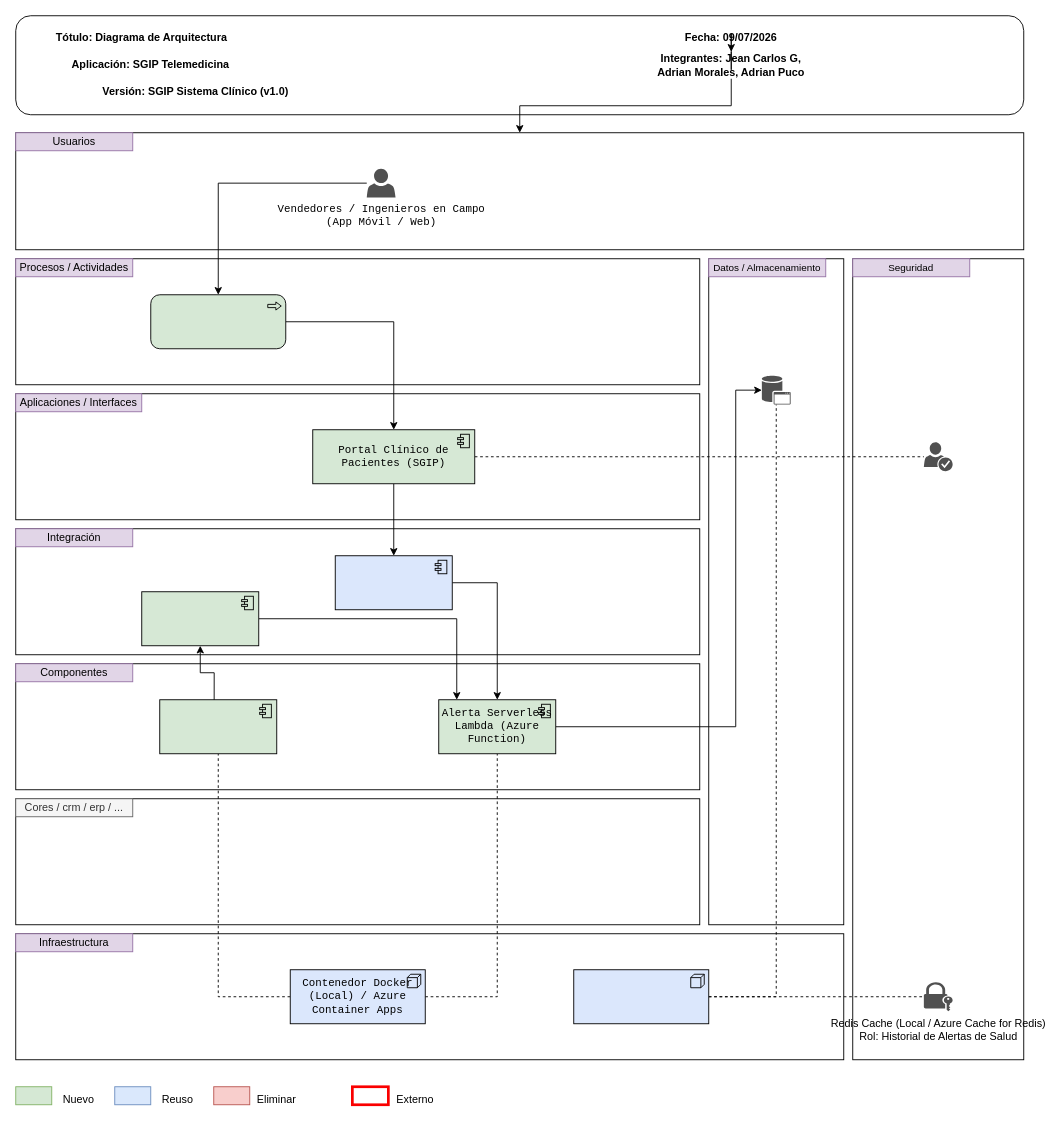
The diagram is 1061 pixels wide and 1130 high, and some of its shapes have lost their labels. The shapes that lost their labels are listed below. From the top down, each one's box as (x1, y1, x2, y2) in pixels, then its label:
(150, 294, 286, 349): Registrar Pacientes y Exámenes (Flujo Clínico)
(761, 375, 790, 404): MySQL Database (Pacientes & Usuarios)
(923, 442, 952, 471): Autenticación Criptográfica (SHA-256 + Salt único) Rol: Médico Especialista
(334, 555, 452, 610): API Gateway (Nginx Reverse Proxy)
(141, 591, 259, 646): Cola de Mensajería (RabbitMQ / Azure Service Bus)
(159, 699, 277, 754): Servicio de Pacientes (FastAPI - Python)
(573, 969, 709, 1024): Serverless Host (Azure Functions / Local Container)
